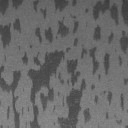red iron: (0, 0, 128, 128), (0, 18, 20, 48), (0, 0, 24, 16), (32, 0, 46, 18), (116, 119, 128, 128), (124, 78, 128, 85), (106, 112, 108, 119)
